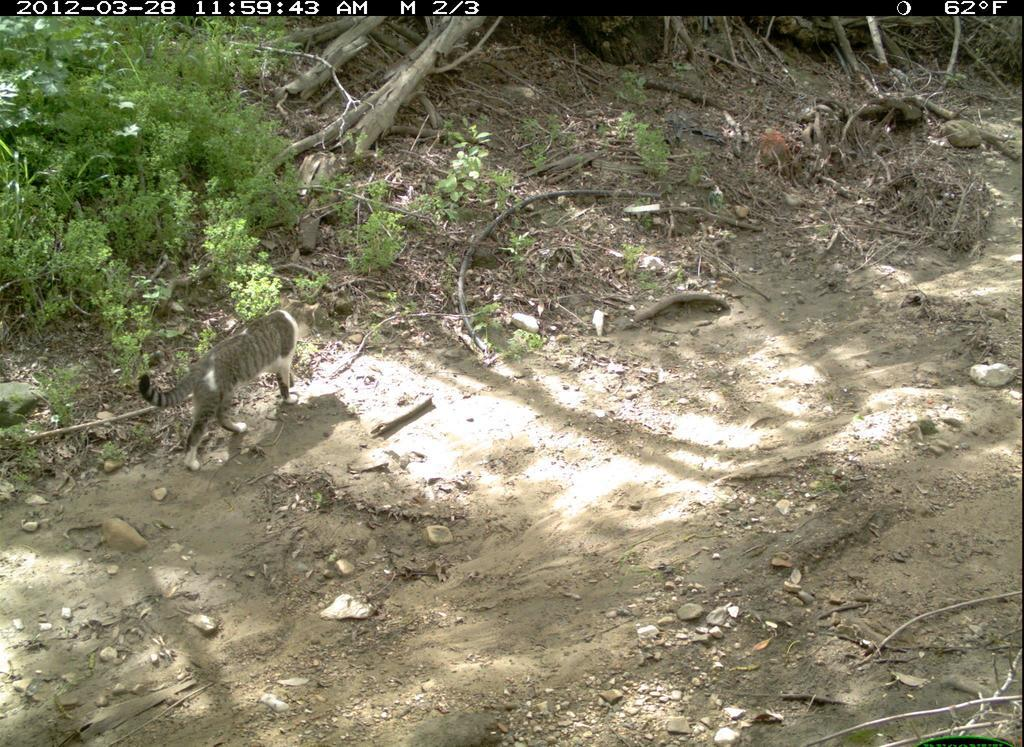cat: (131, 300, 338, 463)
